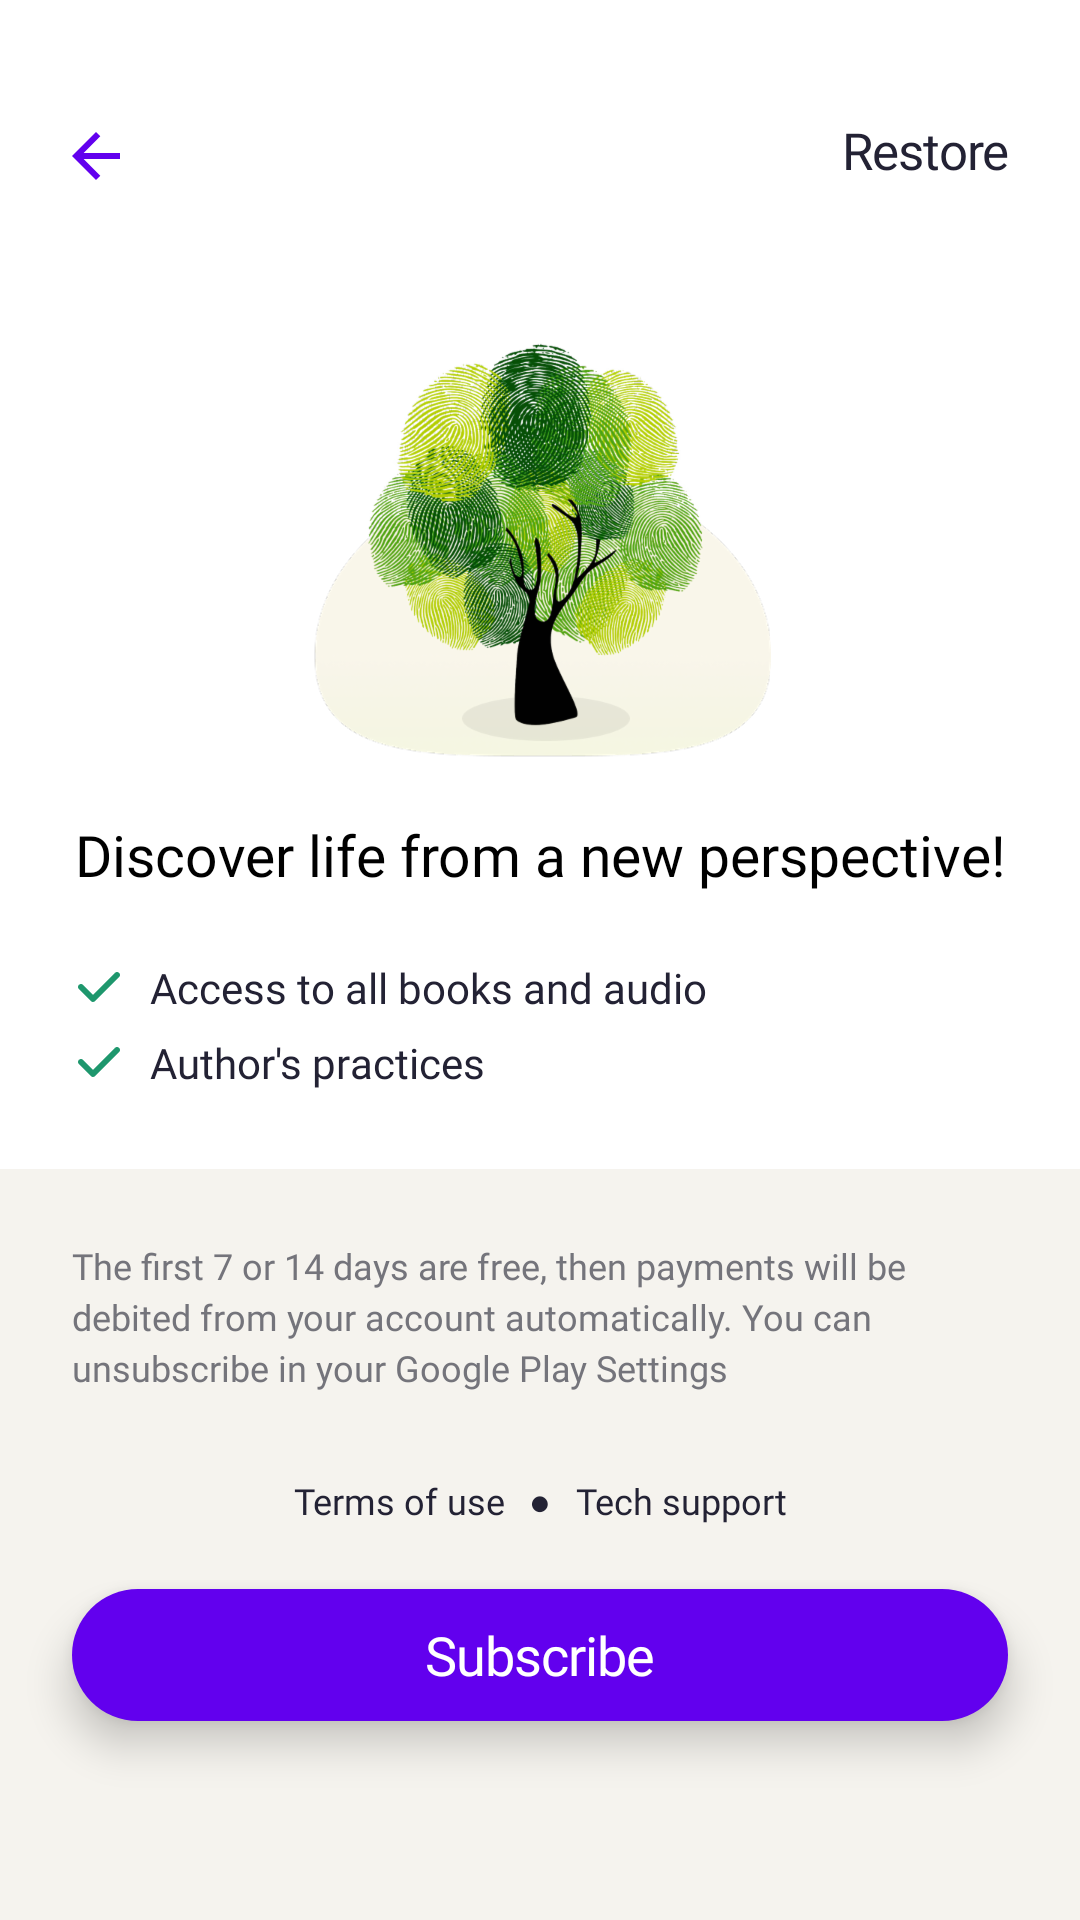

Point at icon controls on the screen. Image size 1080x1920, points as (x,y).
arrow back: (96,156)
